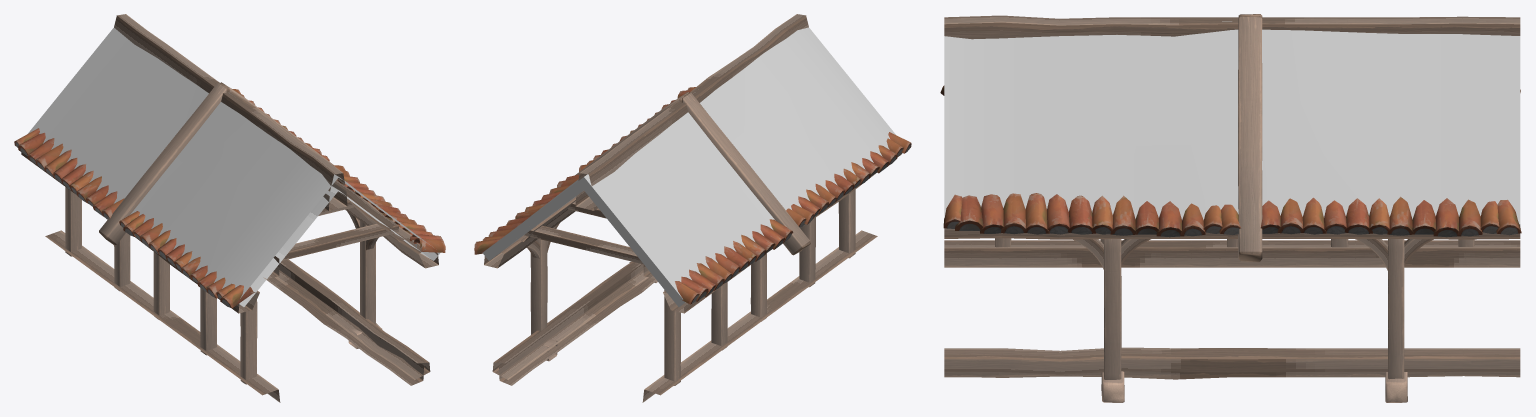
The model's file is SM_Wall_Half_Roof.fbx.
The picture shows the model from 3 angles, left to right: view 1: azimuth 30°, elevation 25°; view 2: azimuth 150°, elevation 25°; view 3: azimuth 270°, elevation 25°; orthographic projection. The views are drawn at different scales.
Visible parts, largest first — view 1: SM_Wall_Half_Roof_LOD0; view 2: SM_Wall_Half_Roof_LOD0; view 3: SM_Wall_Half_Roof_LOD0.
Part boxes in pixels (bbox=[...]): SM_Wall_Half_Roof_LOD0: bbox=[14, 14, 445, 402]; SM_Wall_Half_Roof_LOD0: bbox=[474, 14, 911, 402]; SM_Wall_Half_Roof_LOD0: bbox=[940, 14, 1521, 402].
Size of what is drawn, in the model's own units: 6.52 by 6.16 by 10.09.
